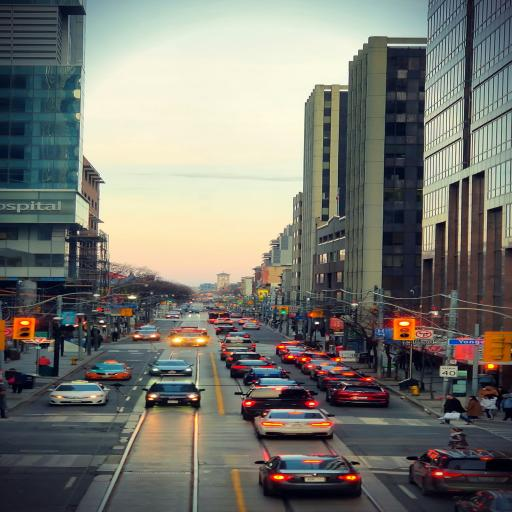car: (407, 449, 511, 495), (256, 455, 361, 496), (235, 387, 318, 419), (254, 409, 334, 438), (143, 381, 205, 407), (326, 382, 389, 407), (50, 381, 109, 405), (317, 368, 372, 391), (455, 491, 511, 511), (85, 361, 132, 379), (244, 367, 289, 385), (230, 360, 276, 377), (310, 361, 351, 380), (296, 351, 340, 368), (226, 351, 270, 368), (149, 360, 193, 375), (170, 332, 209, 346), (221, 346, 252, 360), (276, 341, 307, 355), (222, 338, 255, 351), (254, 378, 304, 386), (132, 326, 160, 340), (281, 348, 305, 363), (301, 359, 324, 374), (223, 332, 250, 340), (216, 325, 237, 335), (213, 318, 233, 326), (244, 322, 261, 330), (239, 318, 254, 325), (166, 312, 180, 318), (230, 313, 243, 318)
